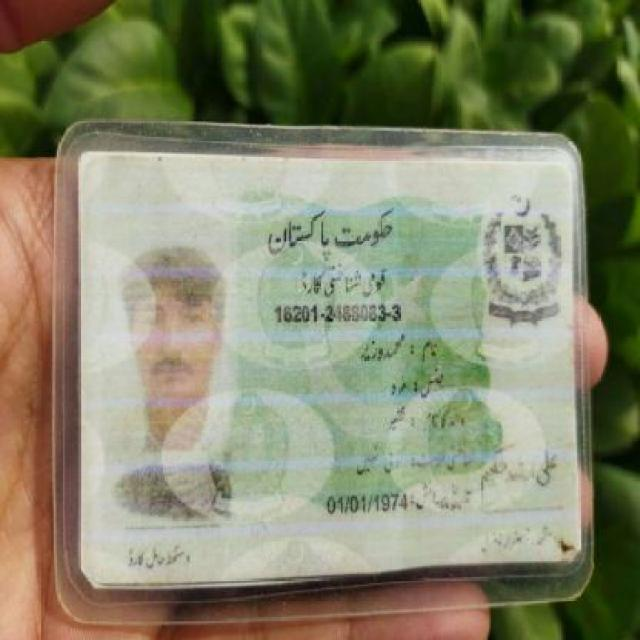Front: (69, 142, 583, 589)
